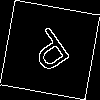P: (25, 25, 78, 82)
